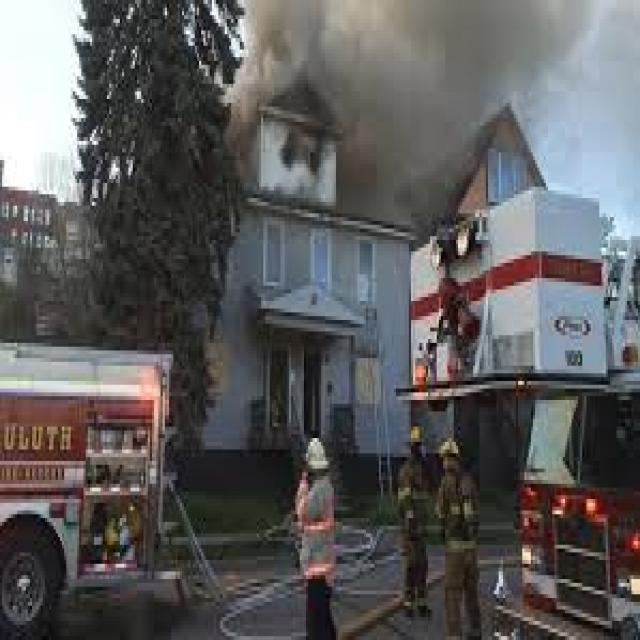smoke: (271, 7, 463, 192)
